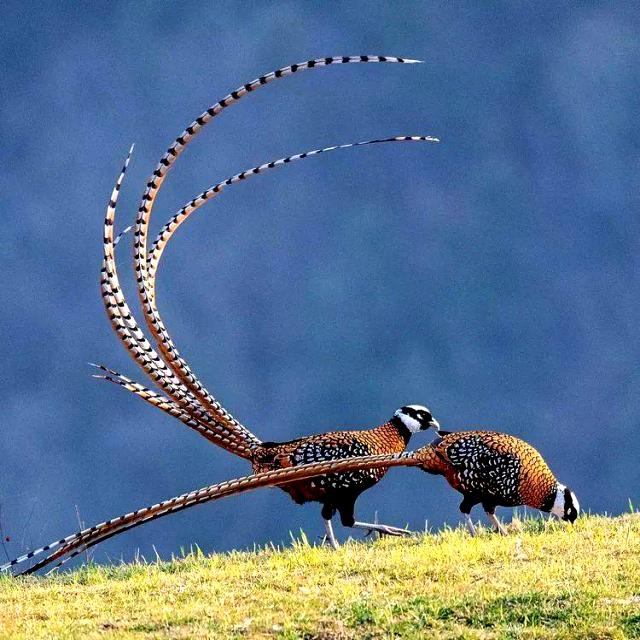Reeves-s Pheasant: (87, 56, 440, 460), (1, 451, 422, 576)
